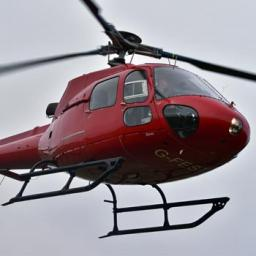helicopter: (2, 9, 253, 242)
